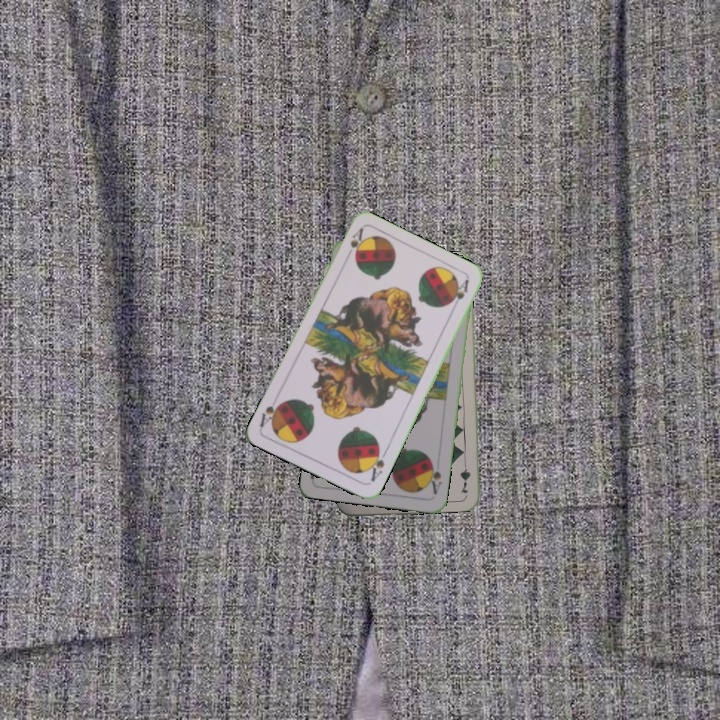G7: (459, 454, 473, 495)
SA: (365, 444, 389, 484), (341, 224, 366, 262), (424, 456, 444, 497)
